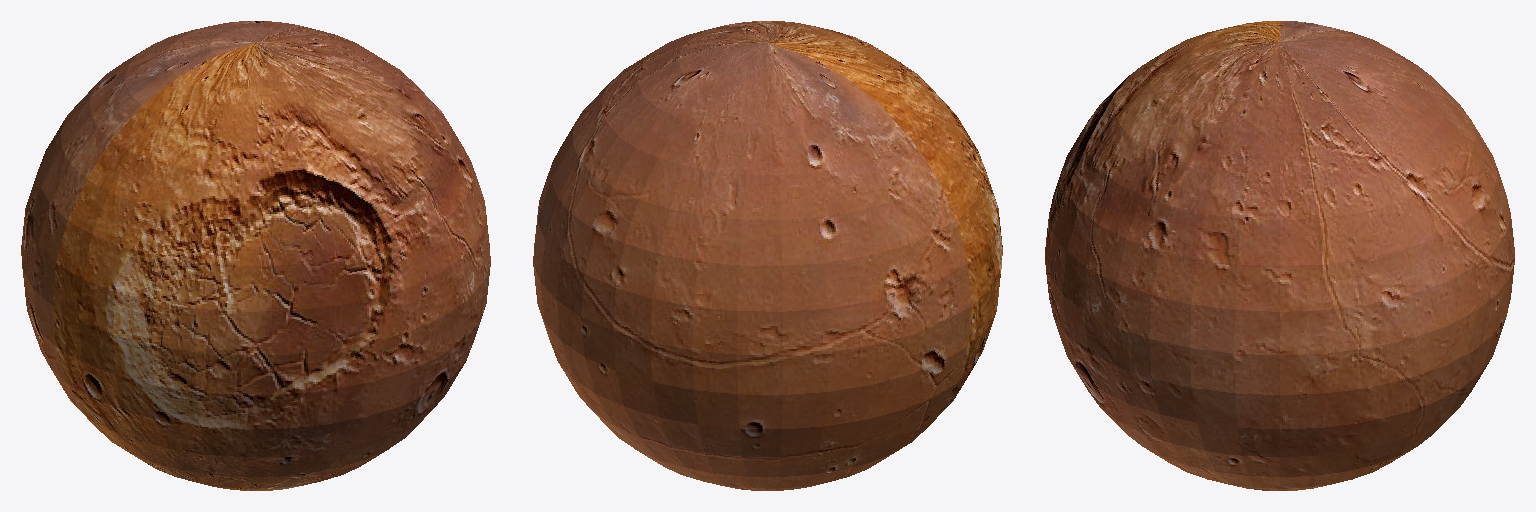
3 renders of one model, left to right at view 1: azimuth 30°, elevation 25°; view 2: azimuth 150°, elevation 25°; view 3: azimuth 270°, elevation 25°, orthographic.
Parts seen in each view (by area): view 1: 球; view 2: 球; view 3: 球.
Part boxes in pixels (x1,y1,x2,y2): 球: (21, 21, 490, 490); 球: (533, 21, 1002, 490); 球: (1045, 21, 1514, 490).
Size of the model in its own units: 2 by 2 by 2.
1 materials, 1 textured.